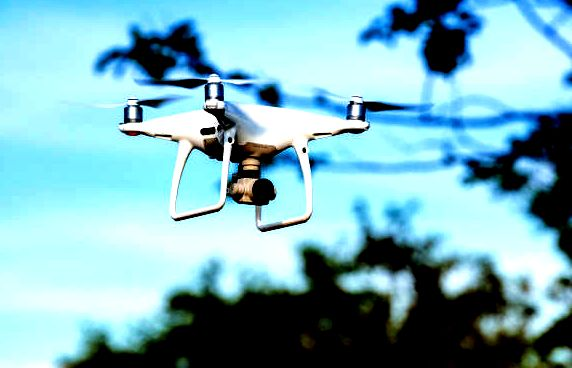Drone: (85, 72, 433, 237)
